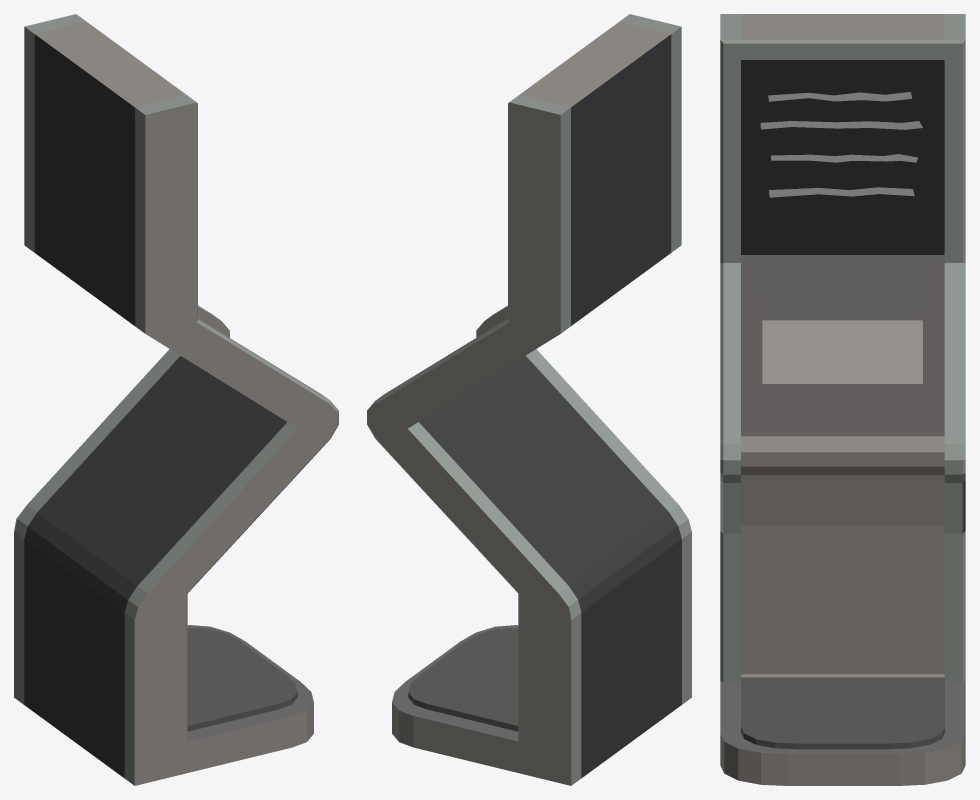
The model's file is Terminal_01.glb.
The picture shows the model from 3 angles, left to right: view 1: azimuth 30°, elevation 25°; view 2: azimuth 150°, elevation 25°; view 3: azimuth 270°, elevation 25°; orthographic projection.
Parts seen in each view (by area): view 1: Terminal_01; view 2: Terminal_01; view 3: Terminal_01.
Part boxes in pixels (x1=…): Terminal_01: x1=14, y1=14, x2=338, y2=785; Terminal_01: x1=367, y1=14, x2=691, y2=785; Terminal_01: x1=720, y1=14, x2=965, y2=785.
Size of what is drawn, in the model's own units: 0.6252 by 1.94 by 0.6359.
1 material, 1 textured.
